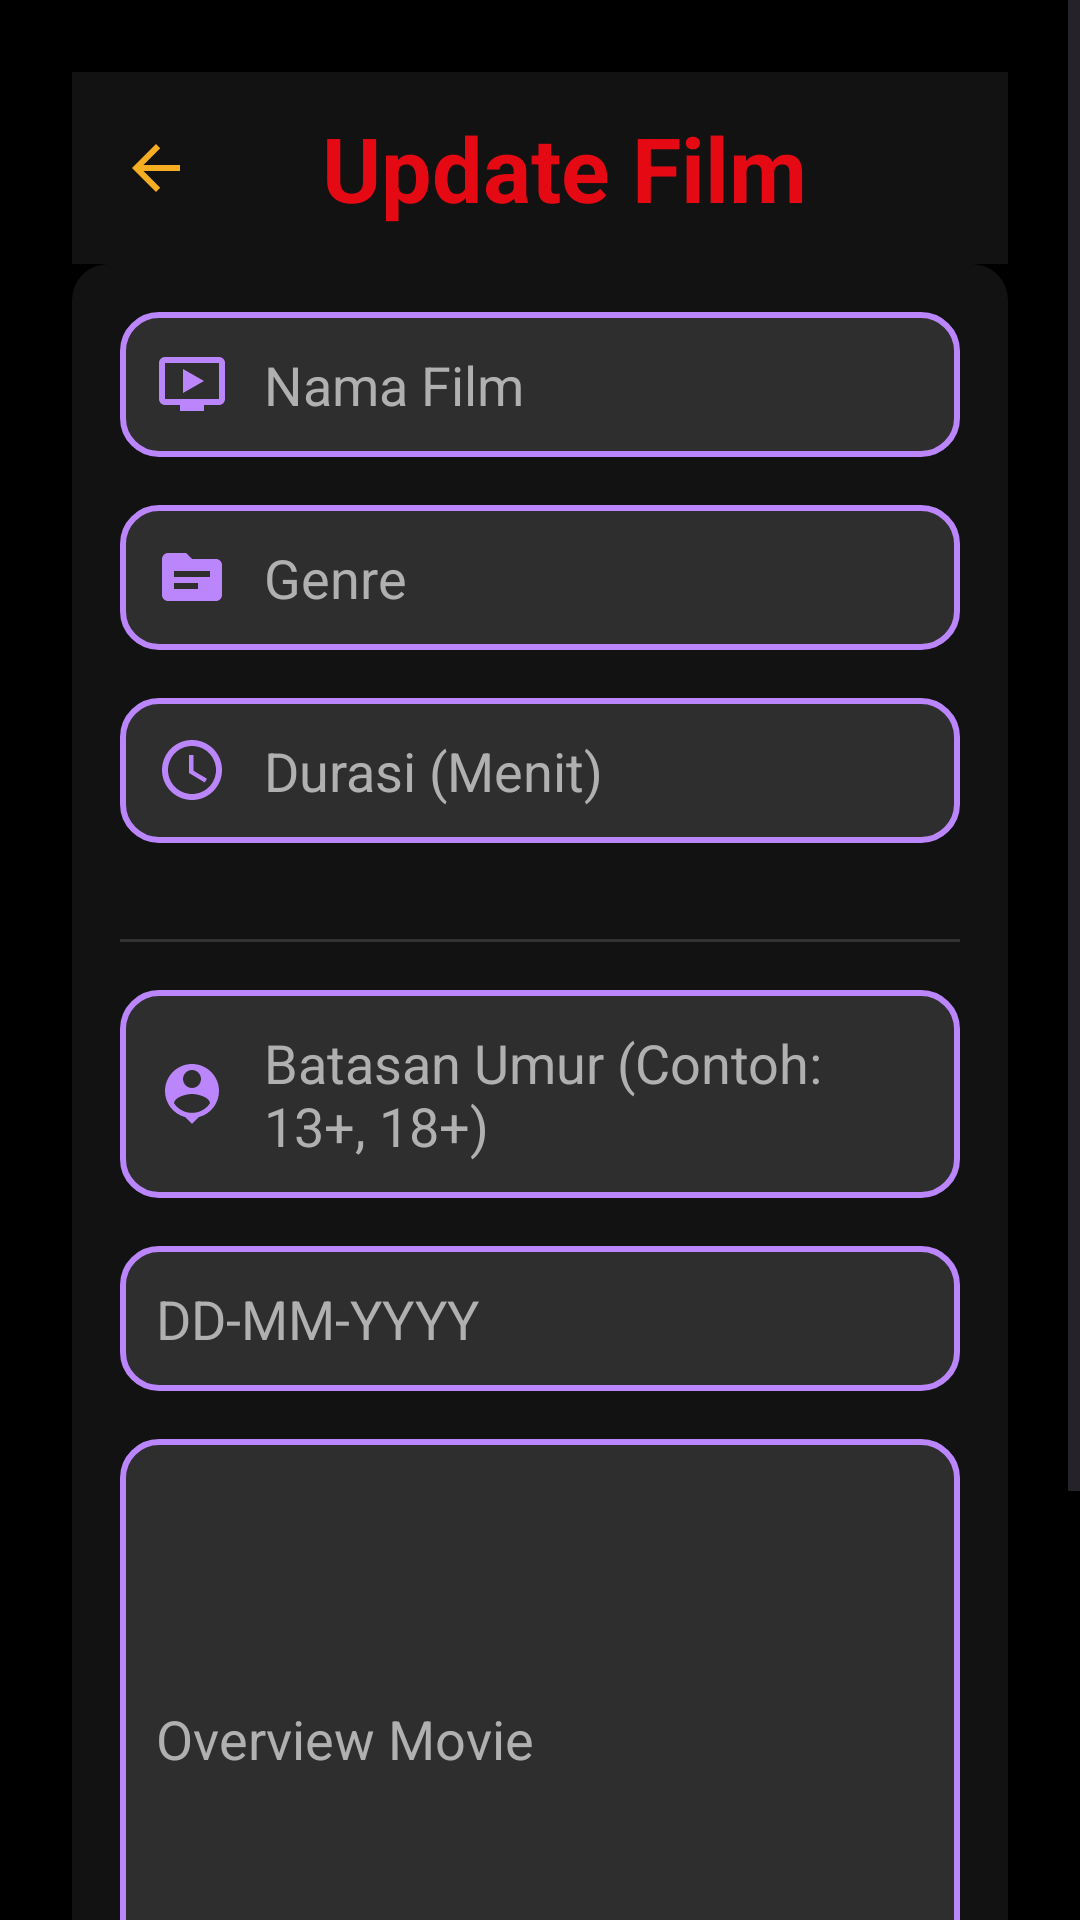

Named icons in this screenshot (1080 x 1920) and their centers, (x,y):
Back: (156,168)
